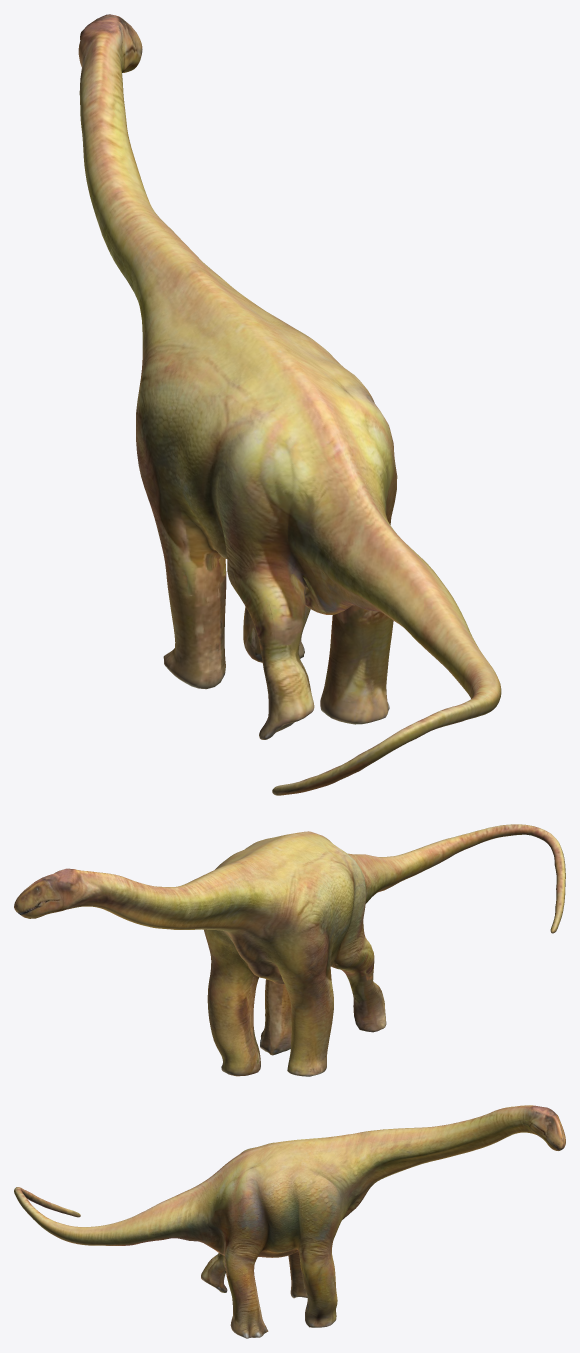
The model's file is 16 Argentinosaurus 3D.glb.
3 views of the same model, one above another, from view 1: azimuth 30°, elevation 25°; view 2: azimuth 150°, elevation 25°; view 3: azimuth 270°, elevation 25° (orthographic). The views are drawn at different scales.
Visible parts, largest first — view 1: Mesh0; view 2: Mesh0; view 3: Mesh0.
Part boxes in pixels (box(x1,y1,x2,y2)): Mesh0: box(78, 14, 501, 795); Mesh0: box(14, 824, 565, 1076); Mesh0: box(14, 1105, 565, 1338).
Size of the model in its own units: 6.6 by 8.47 by 17.95.
1 material, 1 textured.
